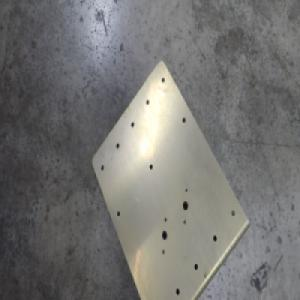MetalSheet: (90, 58, 252, 300)
